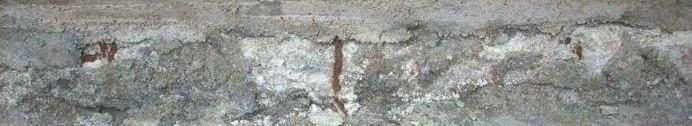Exposed reinforcement: (81, 41, 119, 67), (331, 35, 344, 97), (572, 40, 583, 62)
